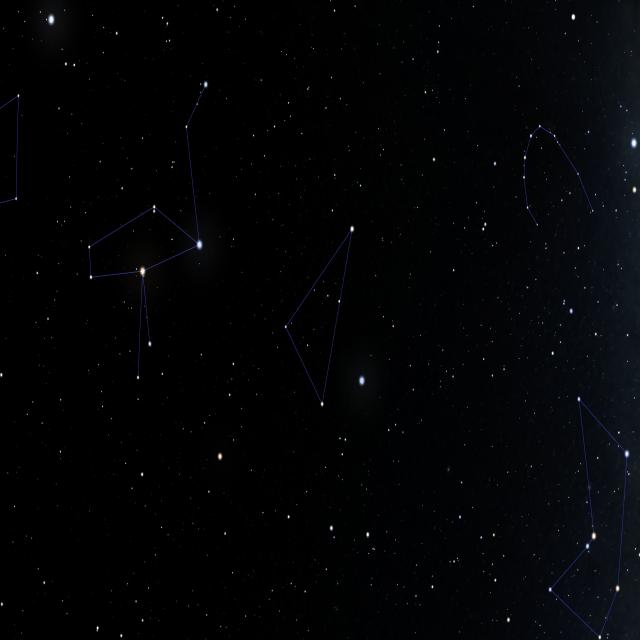Indus: (278, 220, 356, 416)
